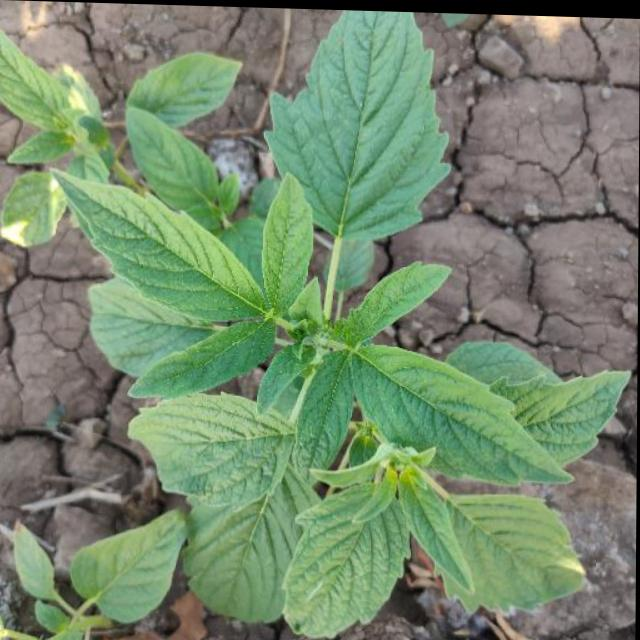crop: (0, 1, 621, 624)
